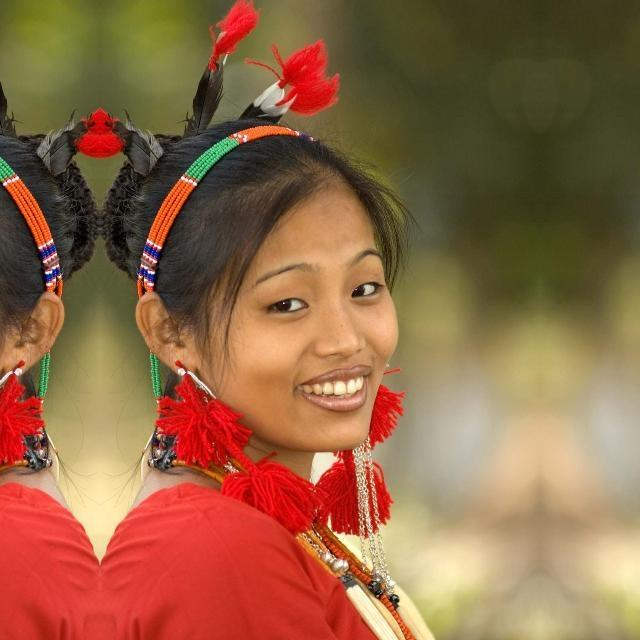person: (100, 16, 408, 640), (0, 16, 100, 640)
